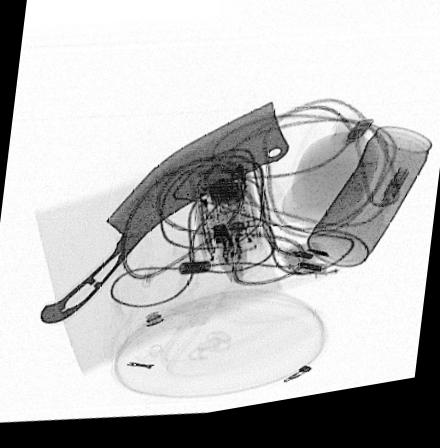Knife: (38, 108, 291, 327)
